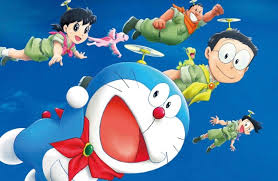doraemon: (1, 61, 191, 181)
